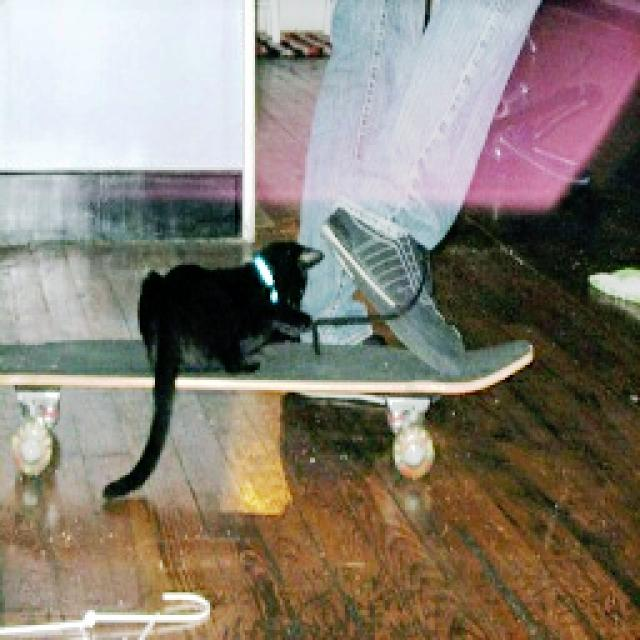cat: (102, 241, 328, 508)
